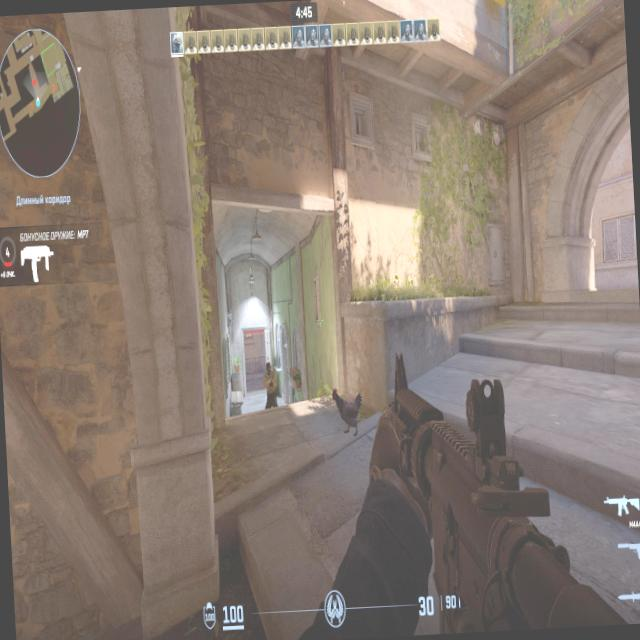T: (265, 364, 278, 407)
T_heat: (267, 366, 272, 372)
